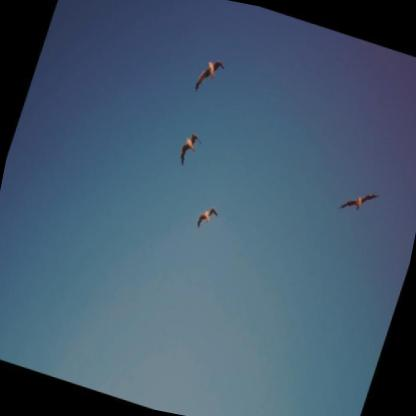bird: (334, 178, 381, 227), (191, 52, 229, 103), (171, 126, 209, 173), (191, 199, 221, 239)
